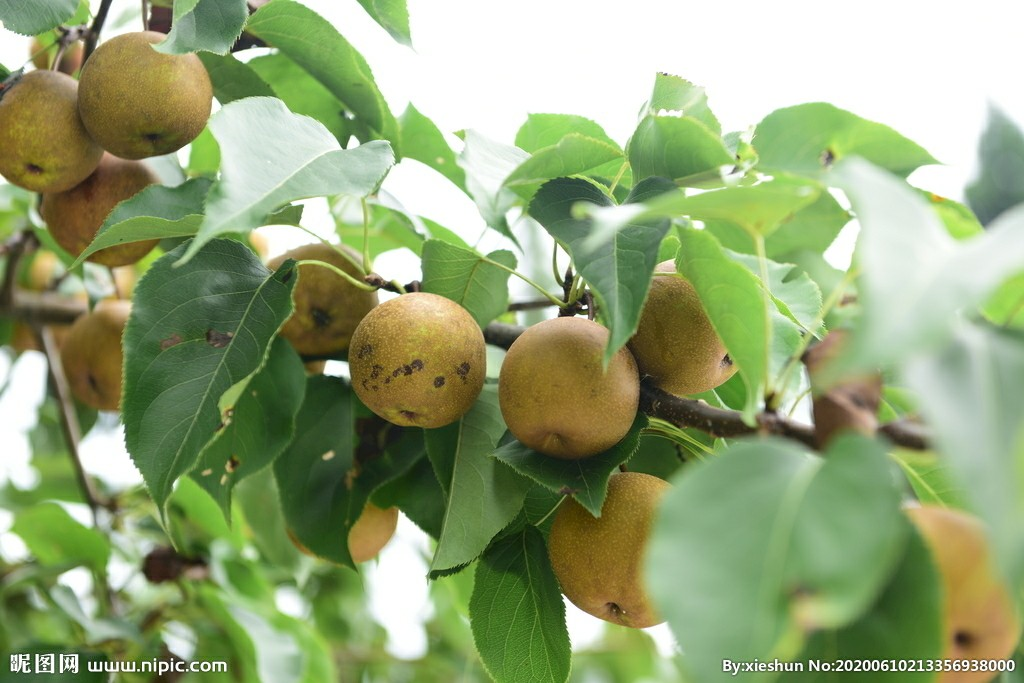pear: (871, 493, 1020, 683), (549, 473, 695, 629), (495, 318, 641, 458), (348, 290, 490, 429), (625, 255, 753, 397), (80, 33, 212, 162), (259, 245, 378, 363), (1, 67, 107, 196), (48, 159, 172, 266), (63, 303, 187, 410)
